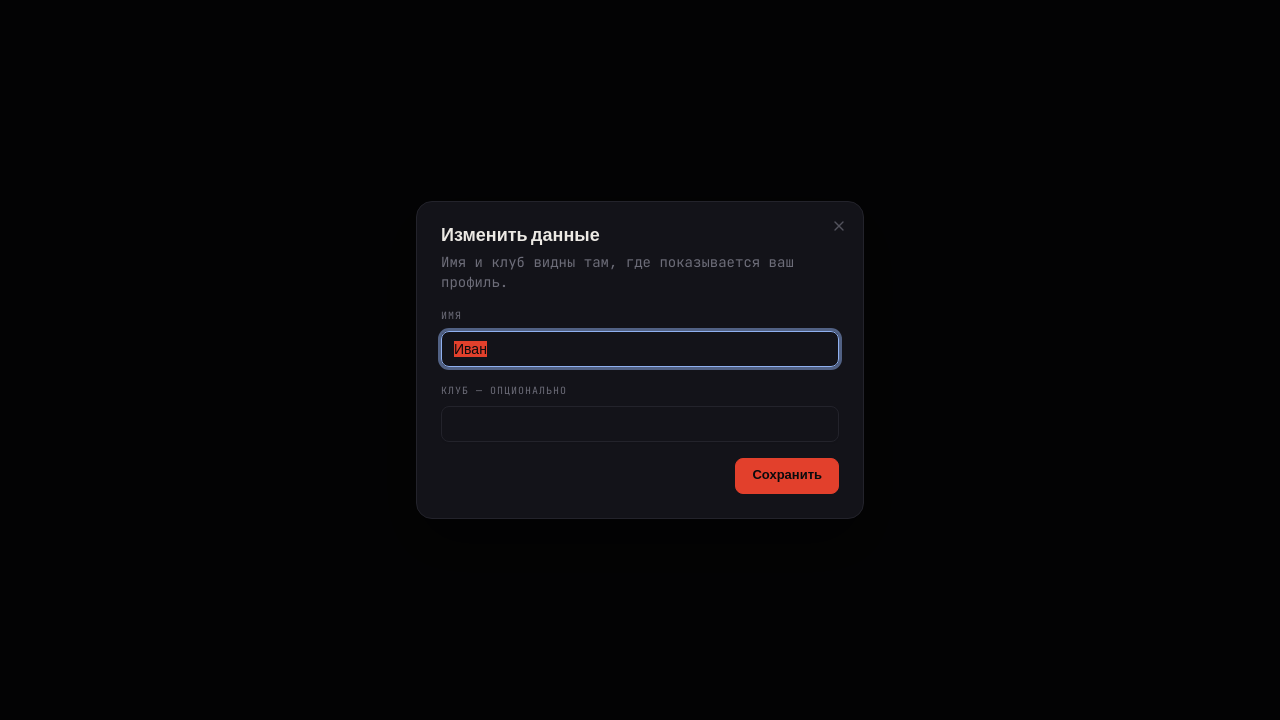
features/profile/ui/EditProfileDialog › shows the server error inline when the name is rejected server-side
Replace the text in the field labelled "Имя" with "x" at (640, 349), box [441,331,839,367]
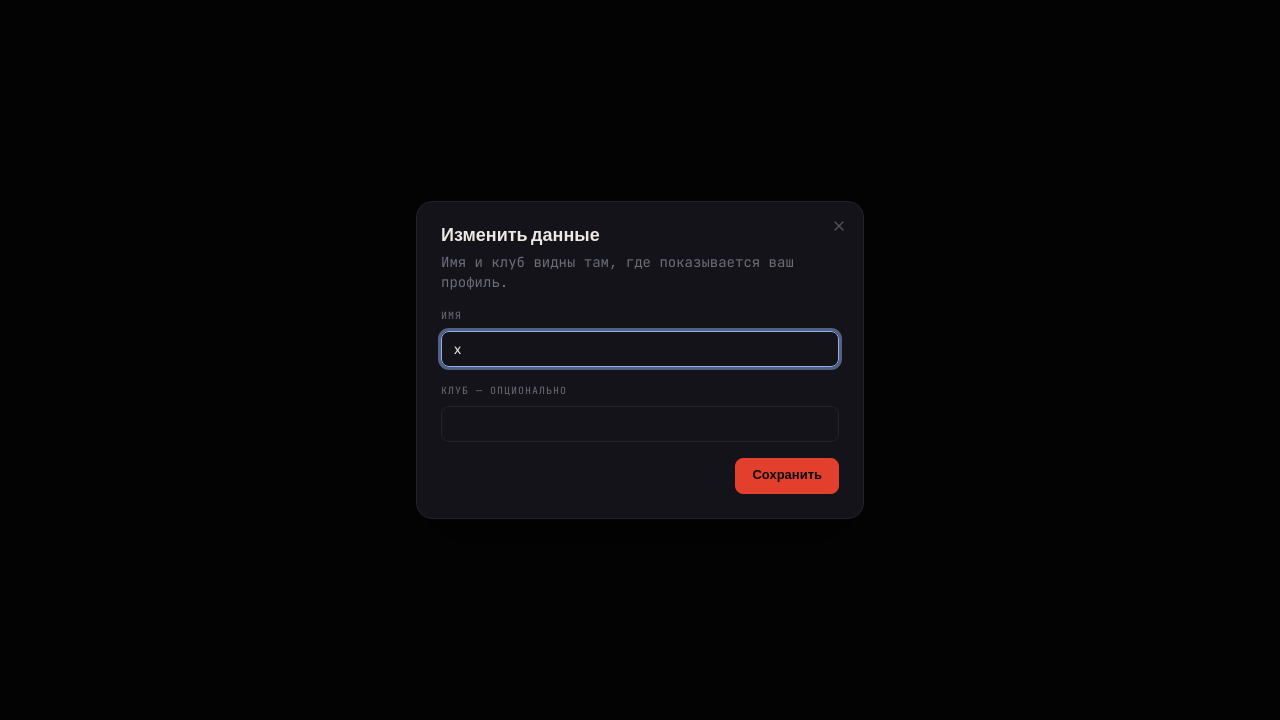
Click the button "Сохранить" at (787, 476), box [735,458,839,494]
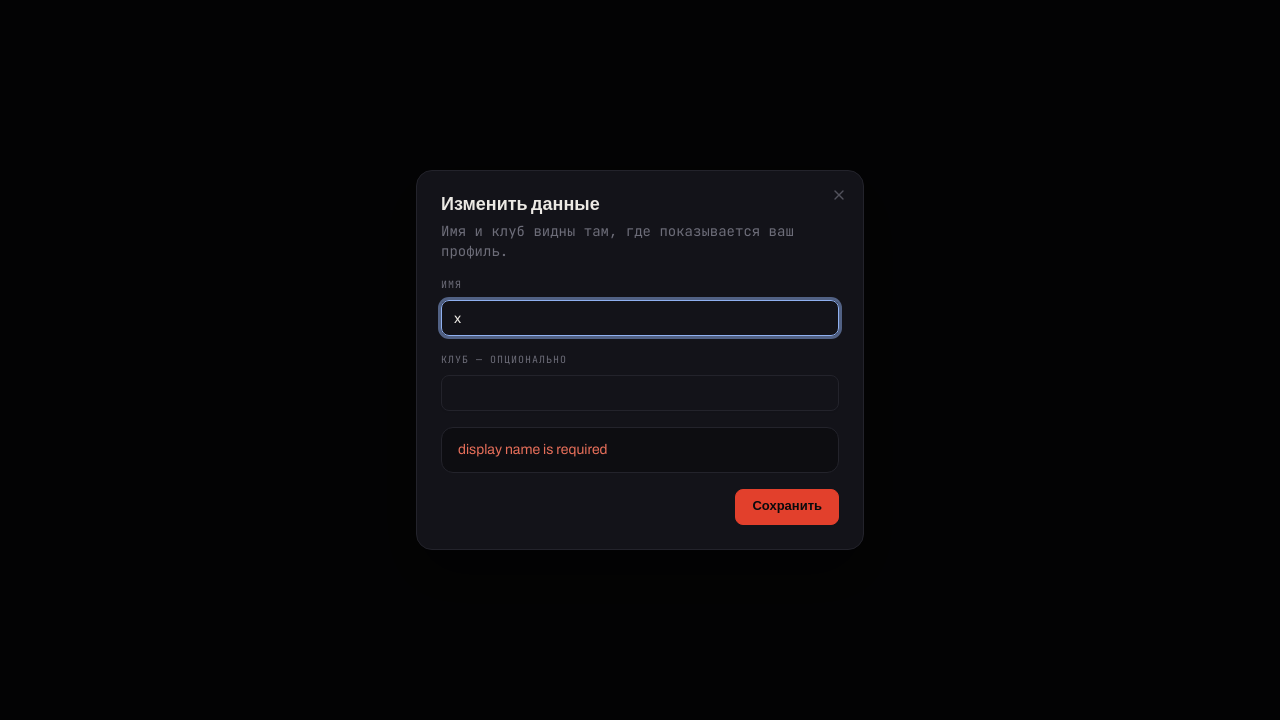
Now the text "display name is required" is shown, box [458,442,608,457]
